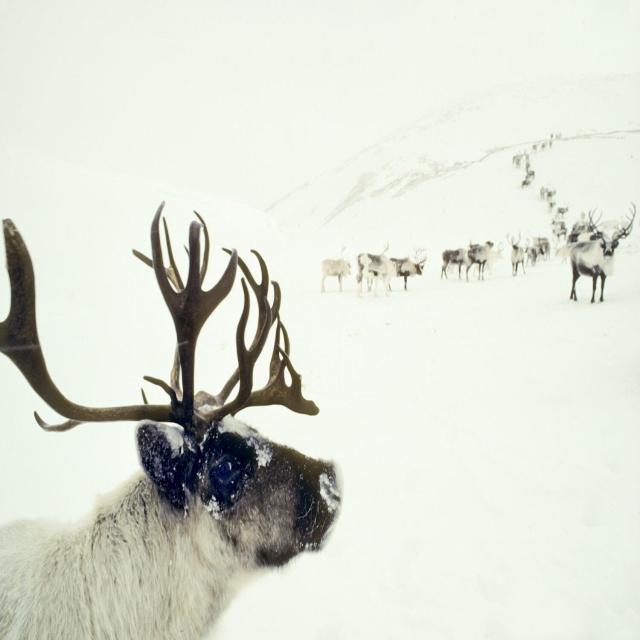Reindeer: (0, 201, 349, 640), (562, 204, 640, 313)
